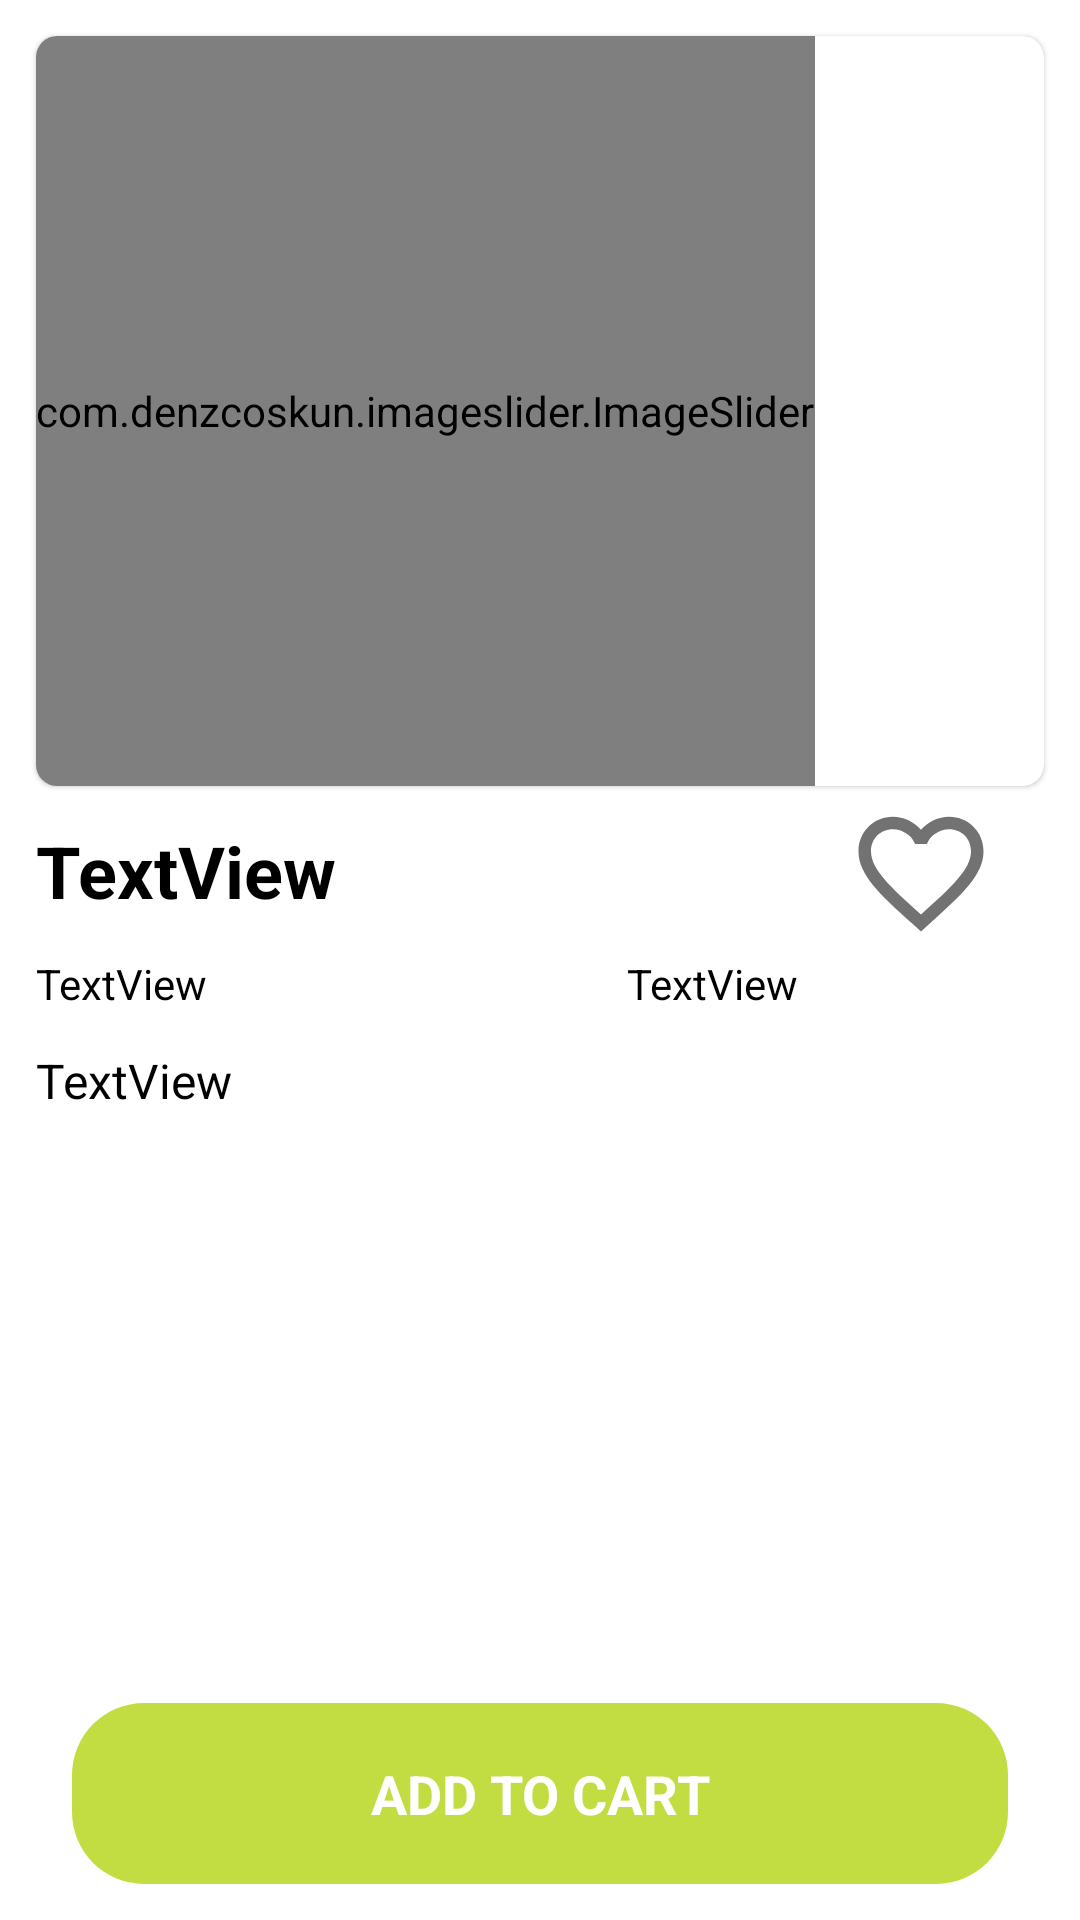

Icons on this 1080w x 1920h Android screen, each with the point to tap as point (x, y):
heart: point (921, 873)
